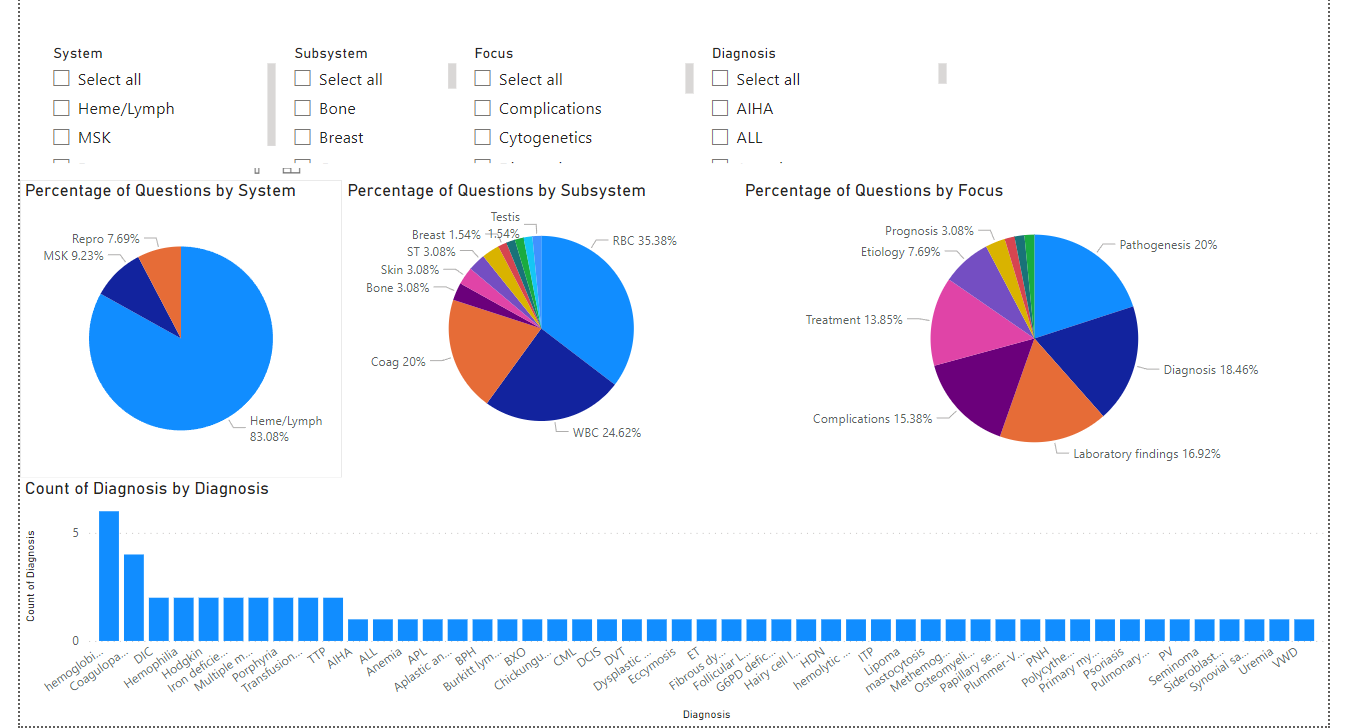

The page's visual inventory and layout, read from the dashboard file:
{"tool":"powerbi","page":{"name":"Page 1","canvas":[1280,720],"ordinal":0},"visuals":[{"type":"pieChart","title":"Percentage of Questions by System","fields":{"Category":["board questions_hyme_lymph_11192023.System"],"Y":["CountNonNull(board questions_hyme_lymph_11192023.System)"]},"box":[0,185.5,315.3,291.1],"z":0},{"type":"pieChart","title":"Percentage of Questions by Subsystem","fields":{"Category":["board questions_hyme_lymph_11192023.Subsystem"],"Y":["CountNonNull(board questions_hyme_lymph_11192023.Subsystem)"]},"box":[315.3,185.5,389.2,271.5],"z":1000},{"type":"pieChart","title":"Percentage of Questions by Focus","fields":{"Category":["board questions_hyme_lymph_11192023.Focus"],"Y":["CountNonNull(board questions_hyme_lymph_11192023.Focus)"]},"box":[704.4,185.5,576.2,291.1],"z":2000},{"type":"slicer","fields":{"Values":["board questions_hyme_lymph_11192023.System"]},"box":[19.6,47.8,235.4,126.3],"z":3000},{"type":"slicer","fields":{"Values":["board questions_hyme_lymph_11192023.Subsystem"]},"box":[254.9,48.3,176.5,126.7],"z":4000},{"type":"slicer","fields":{"Values":["board questions_hyme_lymph_11192023.Focus"]},"box":[431.4,48.3,232.3,126.7],"z":5000},{"type":"slicer","fields":{"Values":["board questions_hyme_lymph_11192023.Diagnosis"]},"box":[663.7,48.3,247.4,126.7],"z":5001},{"type":"clusteredColumnChart","fields":{"Category":["board questions_hyme_lymph_11192023.Diagnosis"],"Y":["CountNonNull(board questions_hyme_lymph_11192023.Diagnosis)"]},"box":[0,476.6,1280.6,242.8],"z":5002}]}

Visuals, with their boxes on the page's 1280x720 design canvas (x1, y1, x2, y2). These are canvas units, not pixel positions in the 1347x728 screenshot, which may show the page scaled, cropped or inside an application window:
"Percentage of Questions by System" pieChart: (left=0, top=186, right=315, bottom=477)
"Percentage of Questions by Subsystem" pieChart: (left=315, top=186, right=704, bottom=457)
"Percentage of Questions by Focus" pieChart: (left=704, top=186, right=1281, bottom=477)
slicer - board questions_hyme_lymph_11192023.System: (left=20, top=48, right=255, bottom=174)
slicer - board questions_hyme_lymph_11192023.Subsystem: (left=255, top=48, right=431, bottom=175)
slicer - board questions_hyme_lymph_11192023.Focus: (left=431, top=48, right=664, bottom=175)
slicer - board questions_hyme_lymph_11192023.Diagnosis: (left=664, top=48, right=911, bottom=175)
clusteredColumnChart - board questions_hyme_lymph_11192023.Diagnosis x CountNonNull(board questions_hyme_lymph_11192023.Diagnosis): (left=0, top=477, right=1281, bottom=719)
